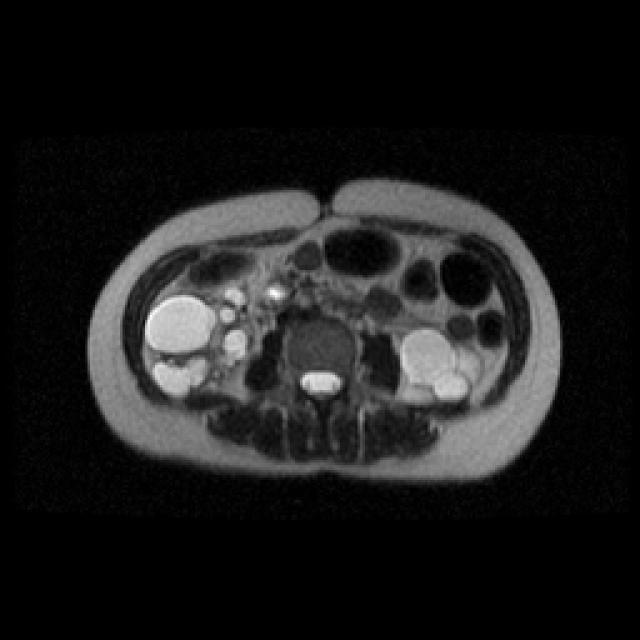sag: (144, 284, 255, 397)
sol: (401, 330, 486, 405)
